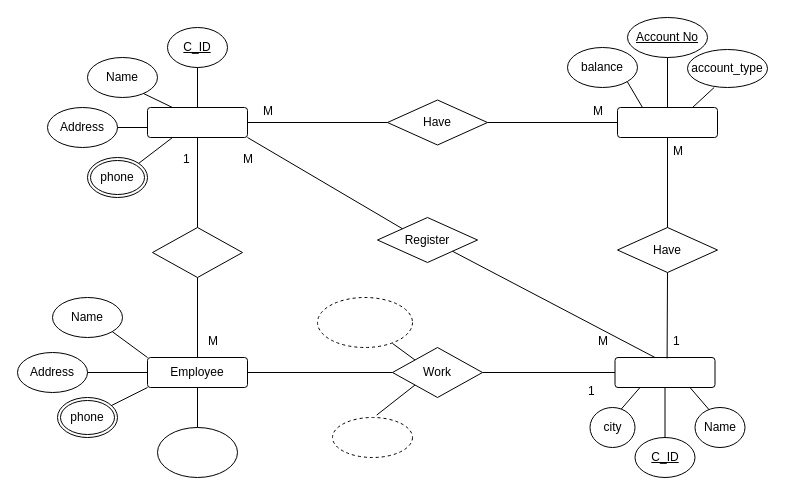
Image size: 785x495. Some labels were removed from this diagram. Each missing label, with the box of its shape:
Account: (616, 106, 718, 138)
associated: (152, 226, 242, 278)
Branch: (614, 356, 715, 388)
Coustomer: (146, 106, 248, 138)
employee_id: (156, 426, 238, 478)
employment length: (316, 296, 412, 348)
start_date: (332, 416, 412, 458)
